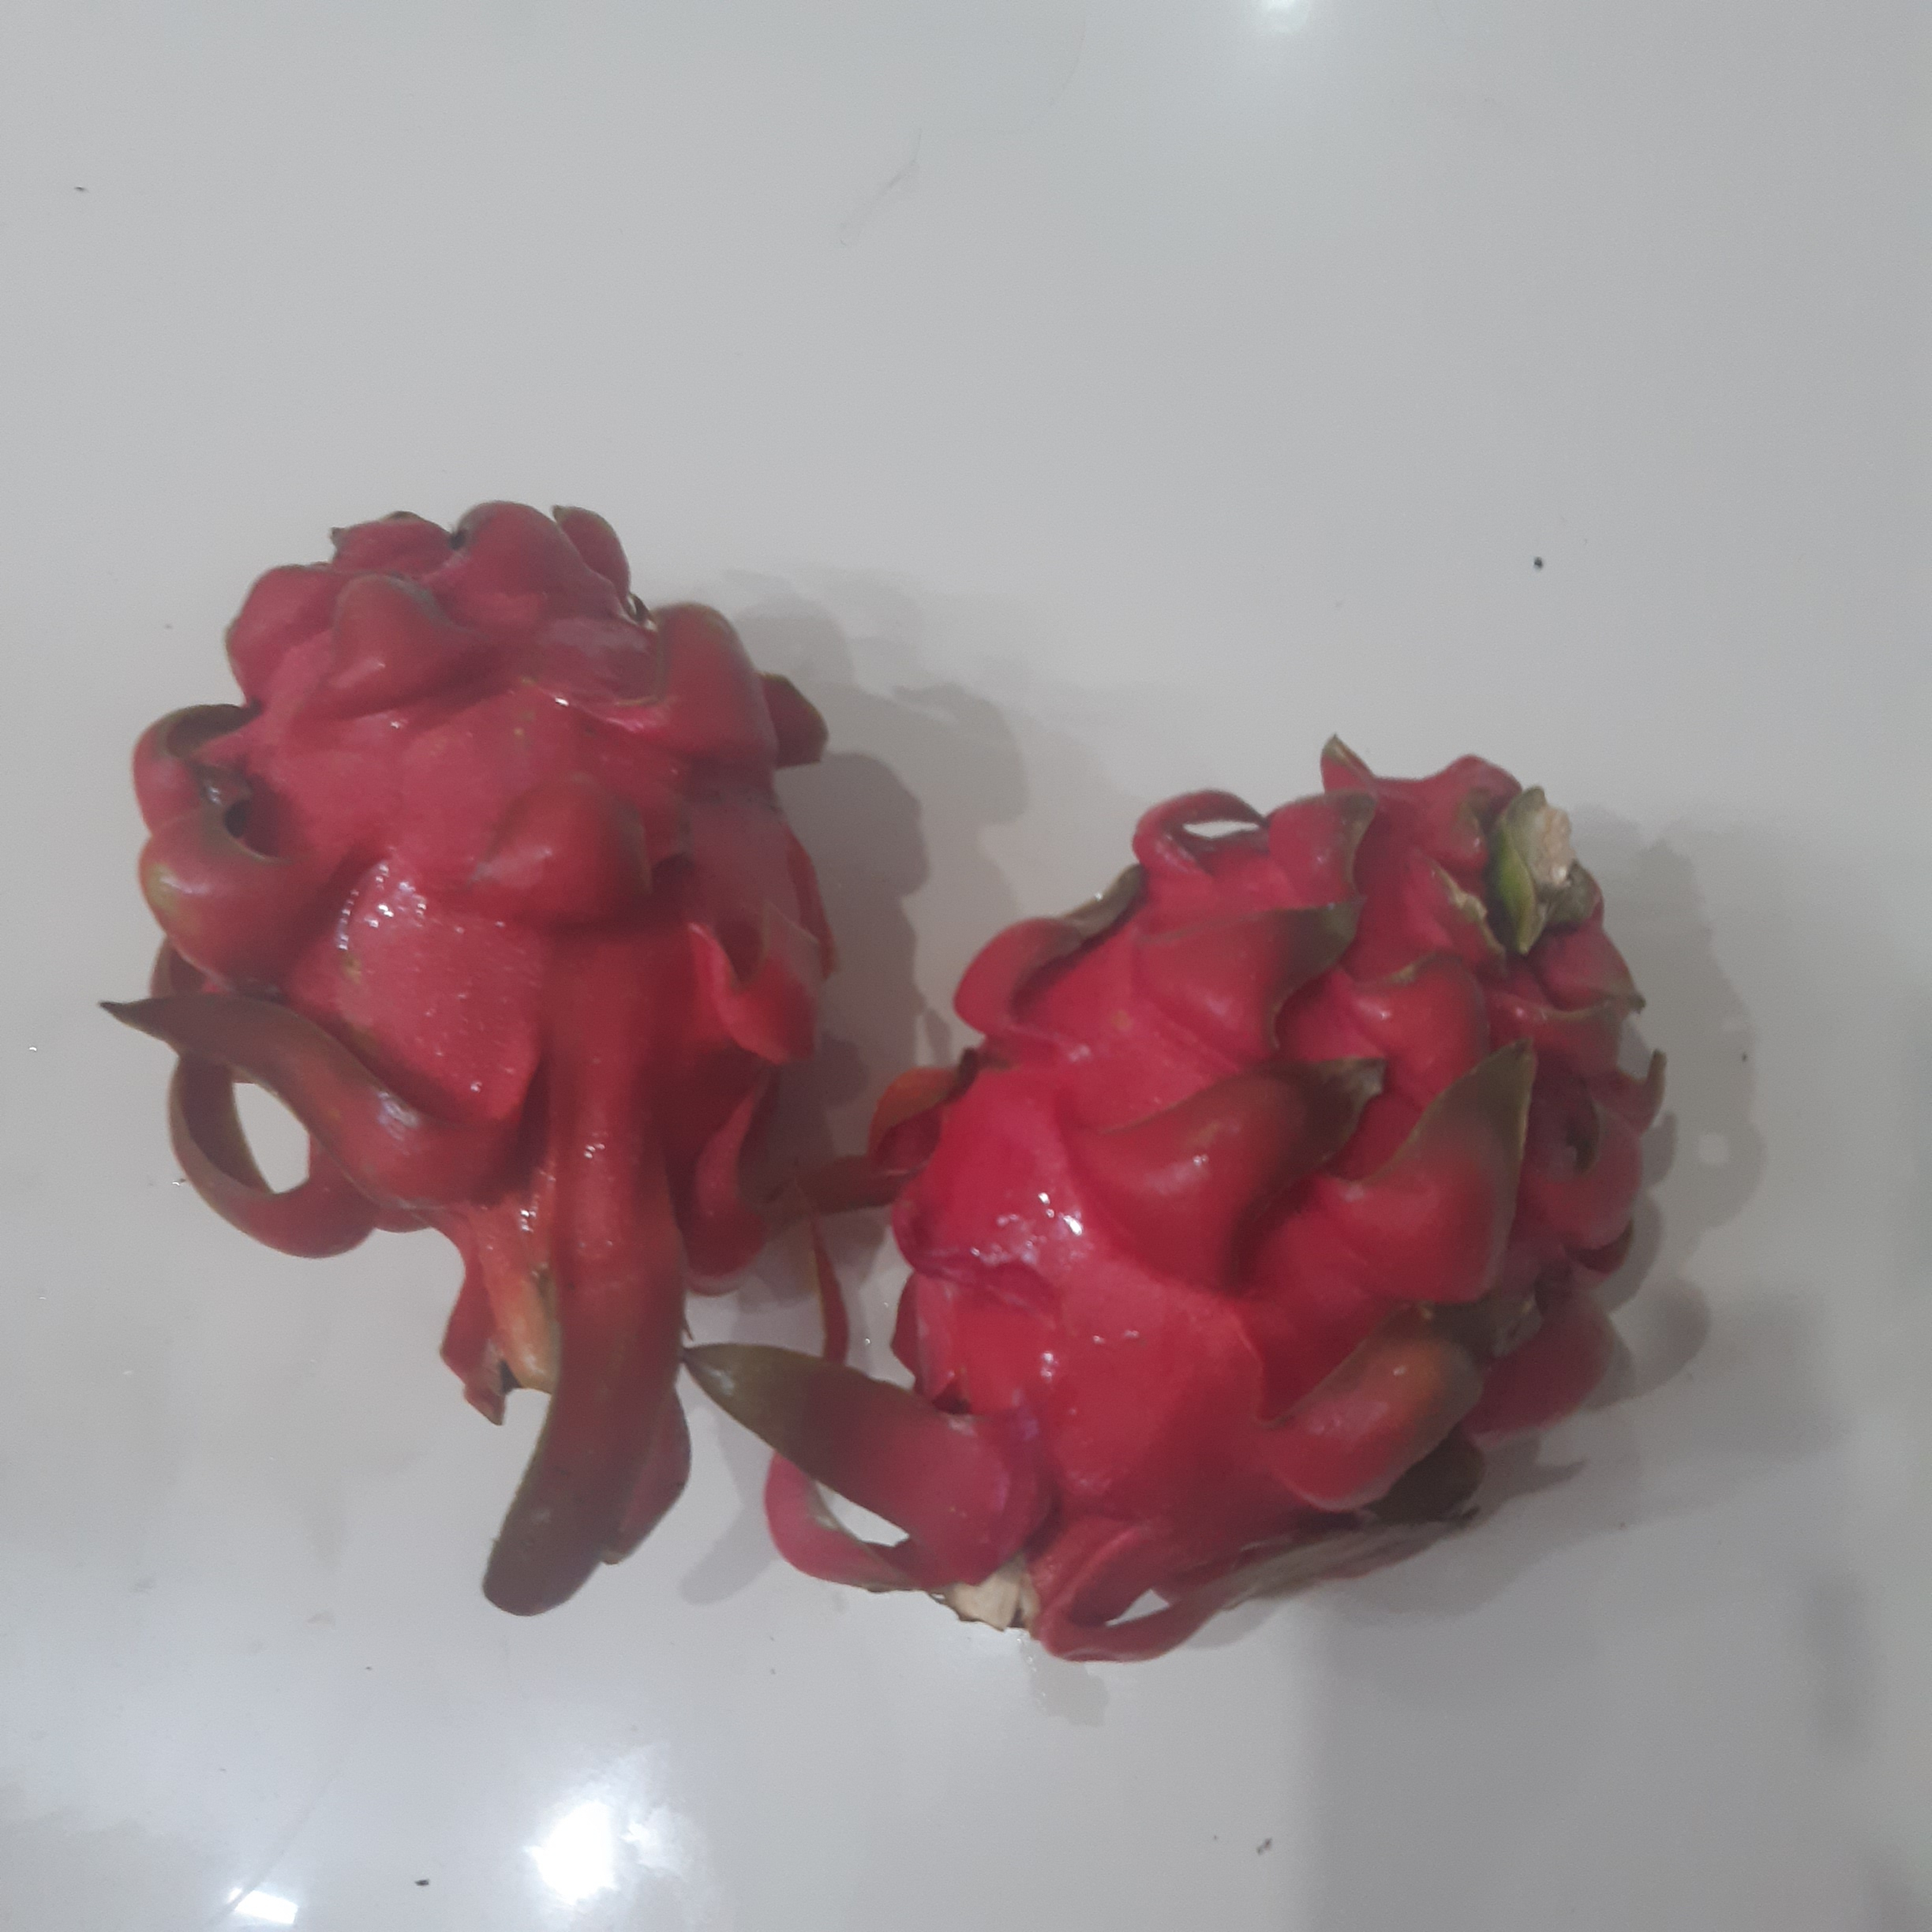Thanh long: (876, 765, 1661, 1530), (135, 495, 817, 1301)
